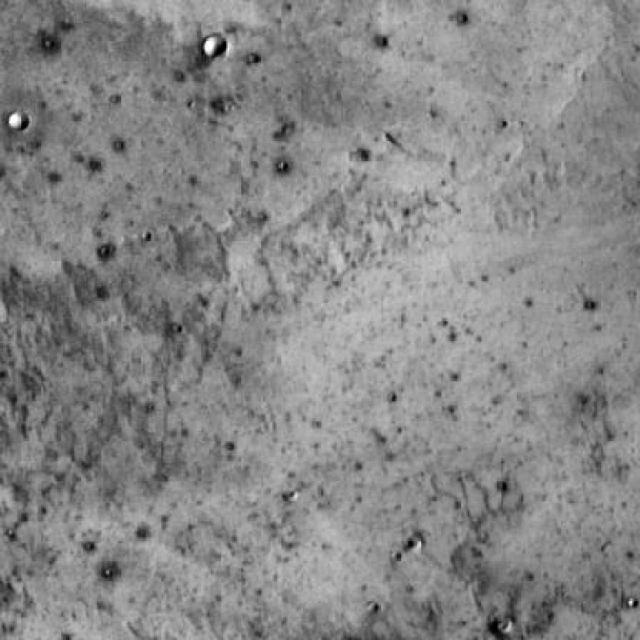crater: (200, 35, 226, 57), (6, 111, 29, 132)
